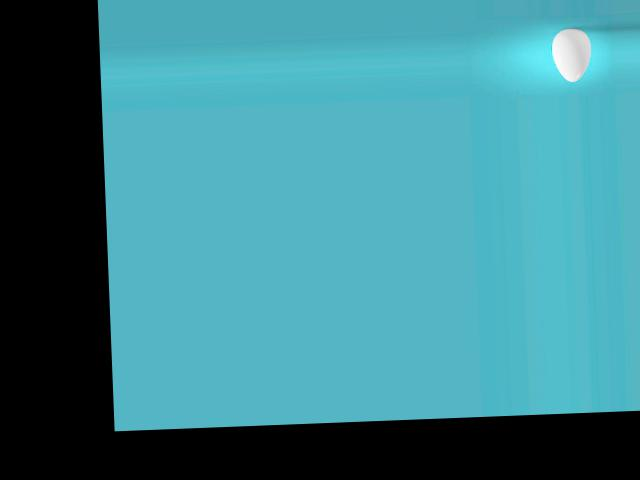egg: (551, 27, 593, 82)
